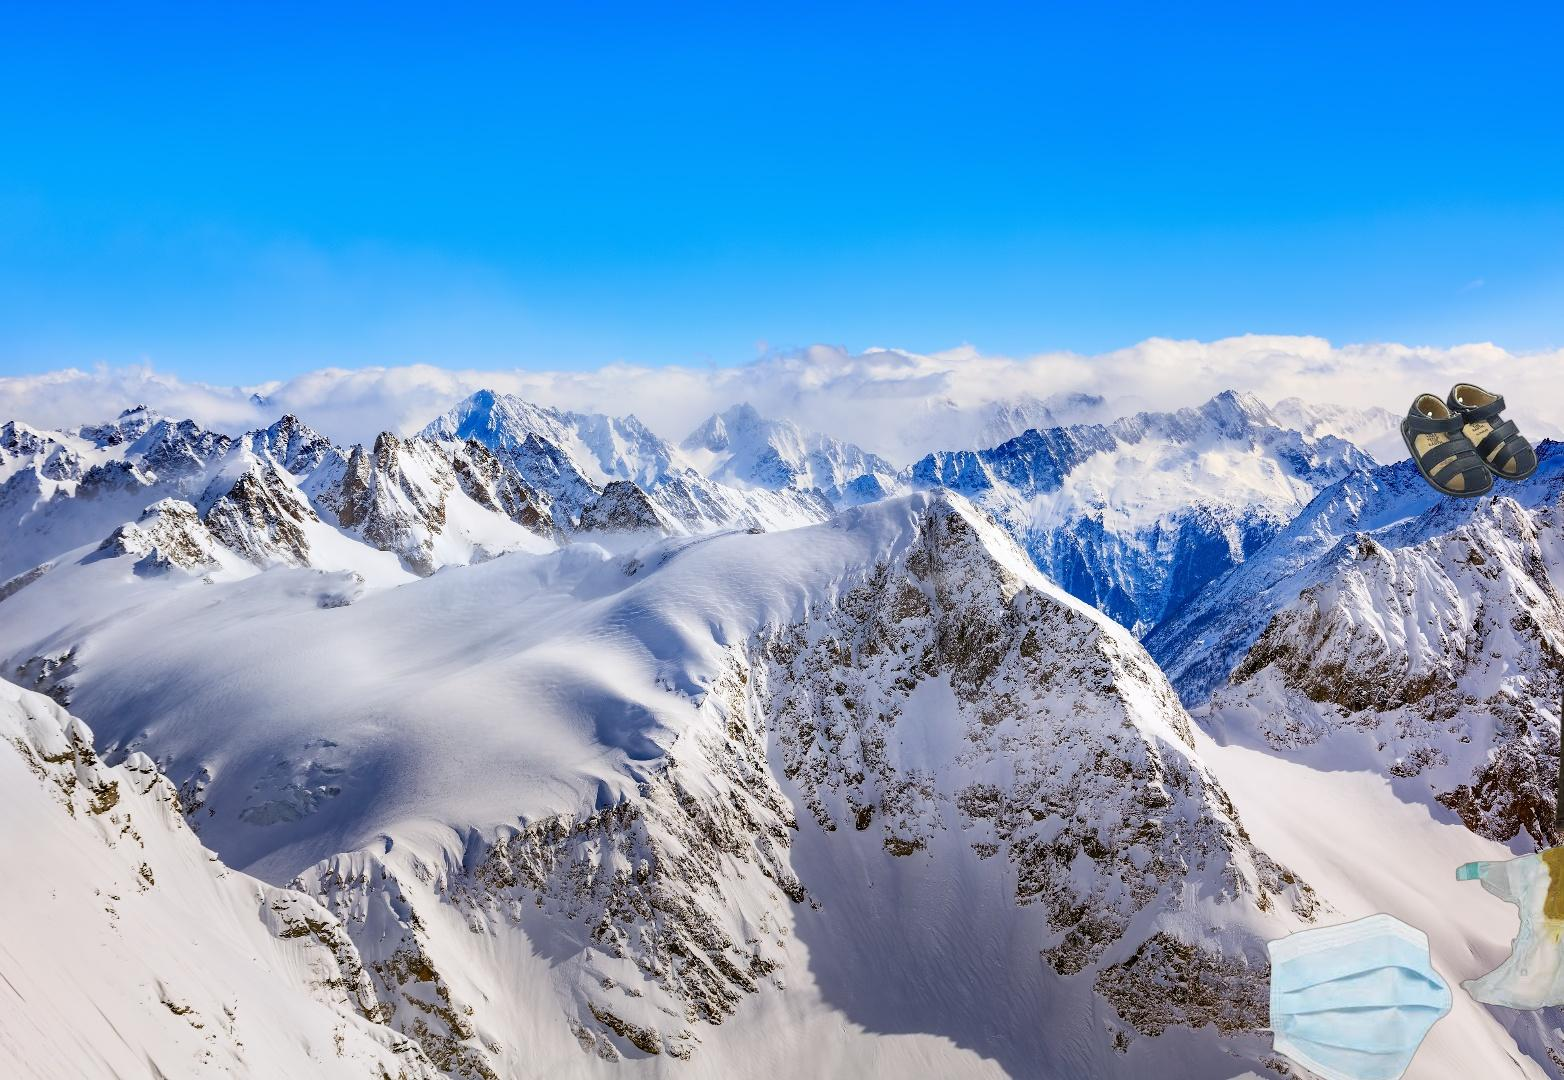clothes: (1484, 353, 1564, 842)
shoes: (1396, 380, 1541, 501)
trash: (1234, 911, 1455, 1080), (1453, 842, 1564, 1013)
